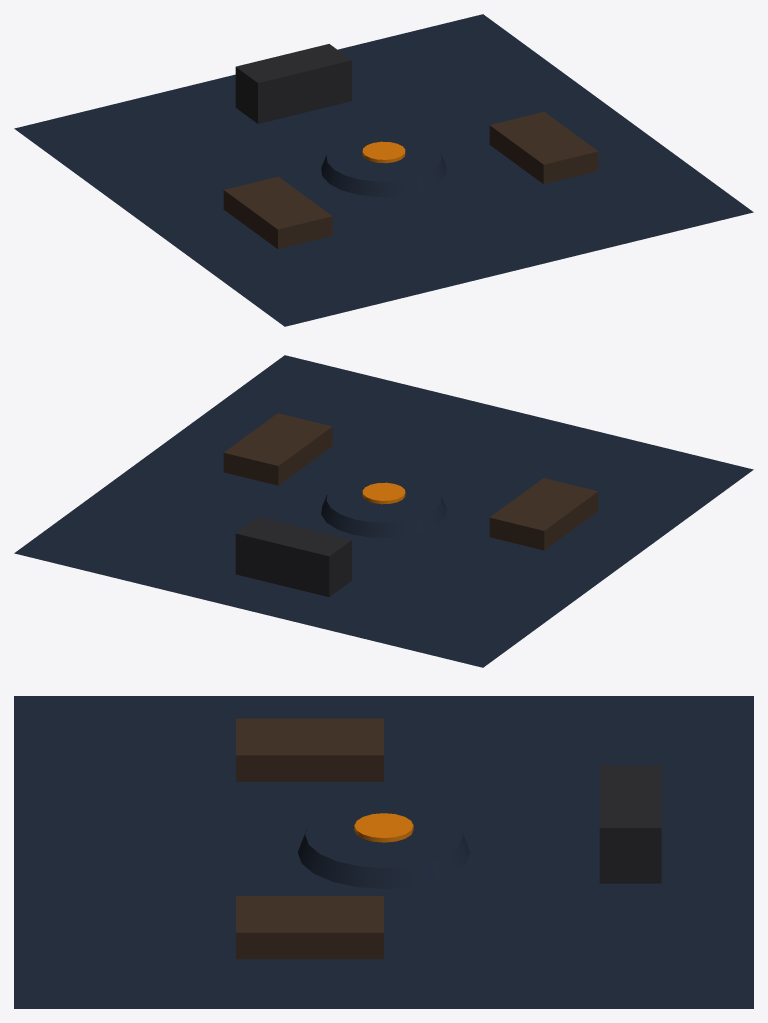
File: nor_02.glb
3 views of the same model, one above another, from view 1: azimuth 30°, elevation 25°; view 2: azimuth 150°, elevation 25°; view 3: azimuth 270°, elevation 25° (orthographic). The views are drawn at different scales.
Parts seen in each view (by area): view 1: scenario_base_floor, NOR_02; view 2: scenario_base_floor, NOR_02; view 3: scenario_base_floor, NOR_02.
Boxes of the visible parts, x1,y1,x2,y2 form: scenario_base_floor: (14,14,753,326); NOR_02: (223,44,598,248); scenario_base_floor: (14,355,753,667); NOR_02: (223,413,598,597); scenario_base_floor: (14,696,753,1008); NOR_02: (236,718,661,959).
Size of the model in its own units: 30 by 2.5 by 30.
